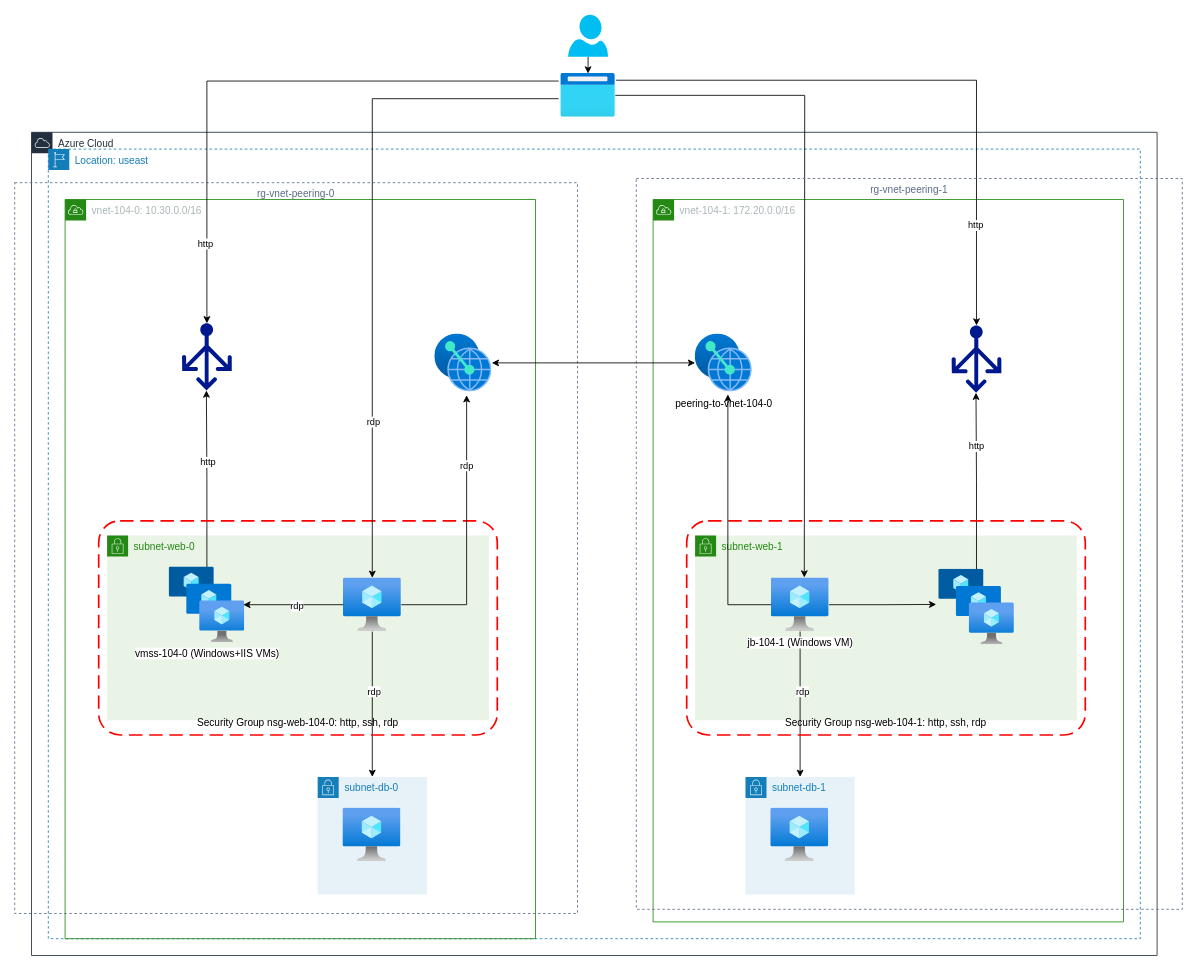
Image size: 1197x970. Some labels were removed from this diagram. Each missing label, with the centre of its shape:
"jb-104-0 (Windows VM)" belongs at (372,604).
"lb-104-0" belongs at (206,356).
"lb-104-1" belongs at (976,358).
"peering-to-vnet-104-1" belongs at (462,362).
"vm-db-104-0" belongs at (371,834).
"vm-db-104-1" belongs at (799,834).
"vmss-104-1 (Windows+IIS VMs)" belongs at (976,606).
